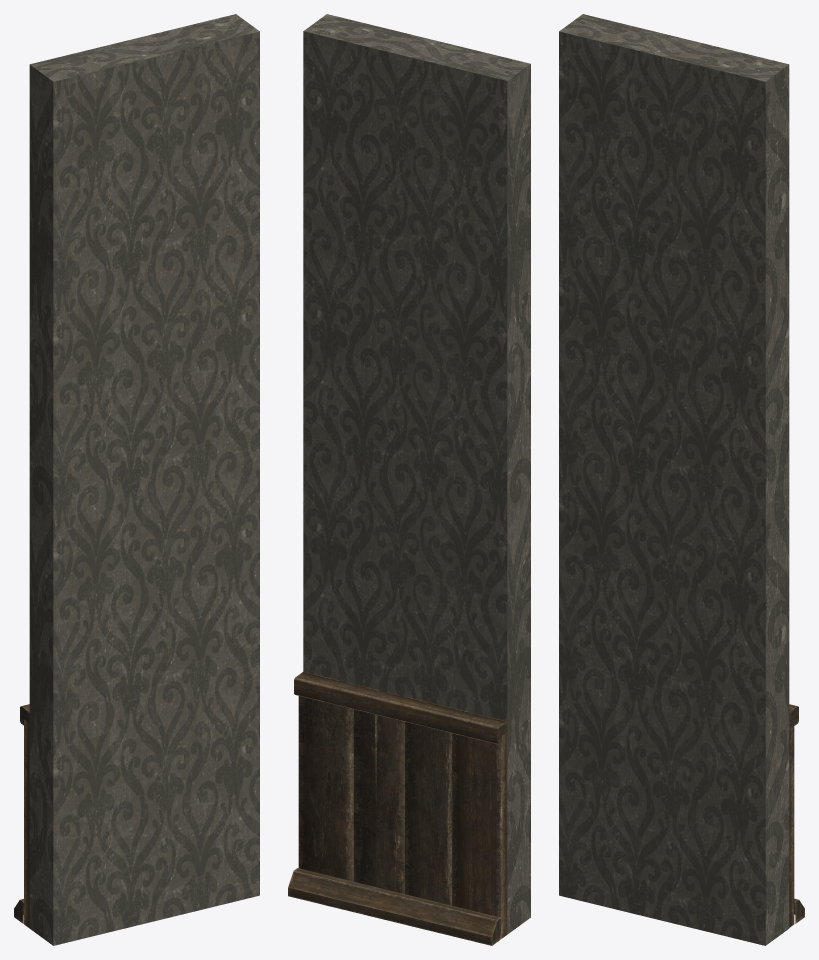
Rendered from SM_Wall_2m.013.fbx.
The picture shows the model from 3 angles, left to right: view 1: azimuth 30°, elevation 25°; view 2: azimuth 150°, elevation 25°; view 3: azimuth 330°, elevation 25°; orthographic projection.
Visible parts, largest first — view 1: SM_Wall_2m.013, SM_Plinth_1m; view 2: SM_Wall_2m.013, SM_Plinth_1m; view 3: SM_Wall_2m.013, SM_Plinth_1m.
Boxes of the visible parts, left/top/right/bottom form: SM_Wall_2m.013: left=29, top=14, right=259, bottom=945; SM_Plinth_1m: left=14, top=704, right=29, bottom=928; SM_Wall_2m.013: left=303, top=14, right=530, bottom=934; SM_Plinth_1m: left=288, top=671, right=507, bottom=945; SM_Wall_2m.013: left=559, top=14, right=789, bottom=945; SM_Plinth_1m: left=789, top=704, right=804, bottom=927.
Size of the model in its own units: 1 by 4 by 0.33.
